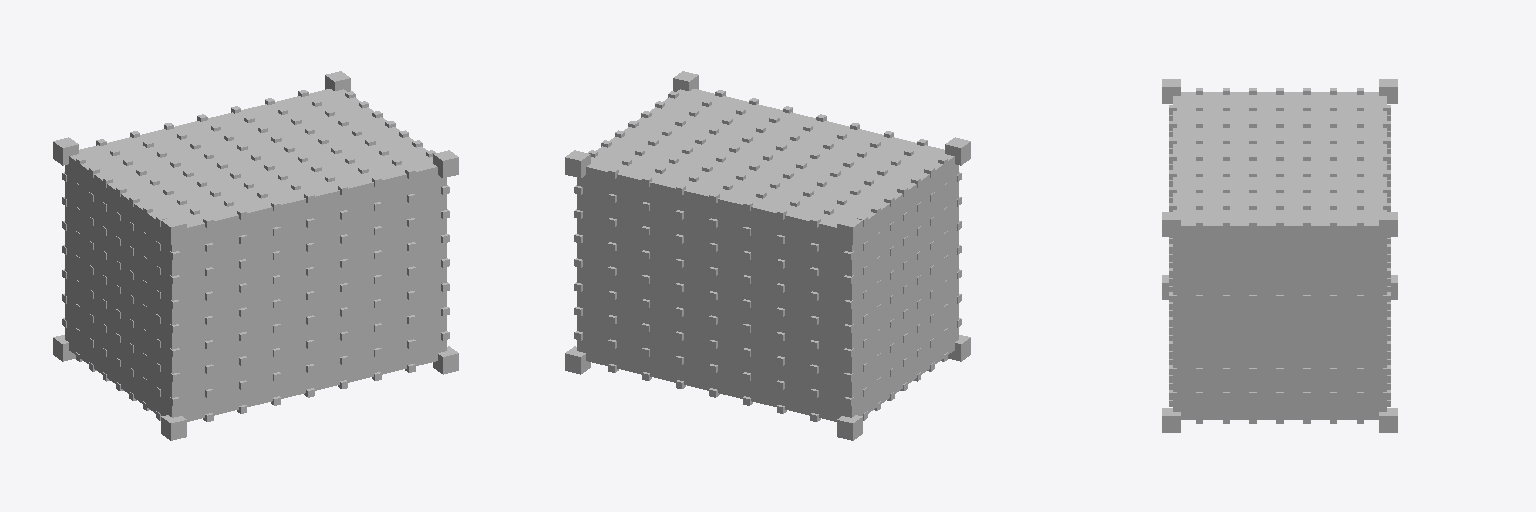
File: stage_sozai.obj
The picture shows the model from 3 angles: view 1: azimuth 30°, elevation 25°; view 2: azimuth 150°, elevation 25°; view 3: azimuth 270°, elevation 25°; orthographic projection.
Parts seen in each view (by area): view 1: cube_stage_立方体.001; view 2: cube_stage_立方体.001; view 3: cube_stage_立方体.001.
Boxes of the visible parts, x1=… form: cube_stage_立方体.001: x1=53, y1=71, x2=458, y2=440; cube_stage_立方体.001: x1=565, y1=71, x2=970, y2=440; cube_stage_立方体.001: x1=1162, y1=79, x2=1397, y2=432.
Bounding box in the file's own units: 3.11 × 2.2 × 2.2.